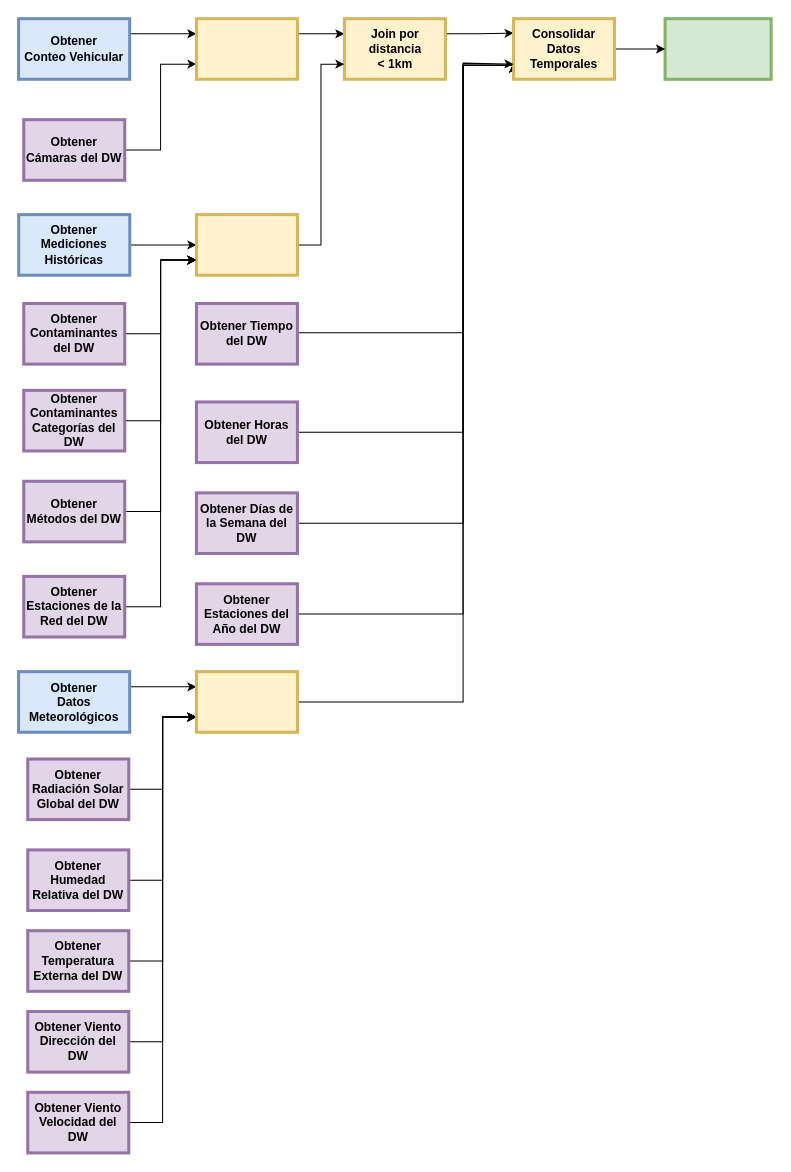
Some shapes in this 791 by 1172 pixel diagram are drawn without their labels. Each missing label, with the box of its shape:
Almacenar en DW: (663, 17, 772, 80)
Consolidar Datos Conteo Vehicular: (194, 17, 298, 80)
Consolidar Datos Mediciones Históricas: (194, 213, 298, 276)
Consolidar Datos Meteorológicos: (194, 670, 298, 733)
